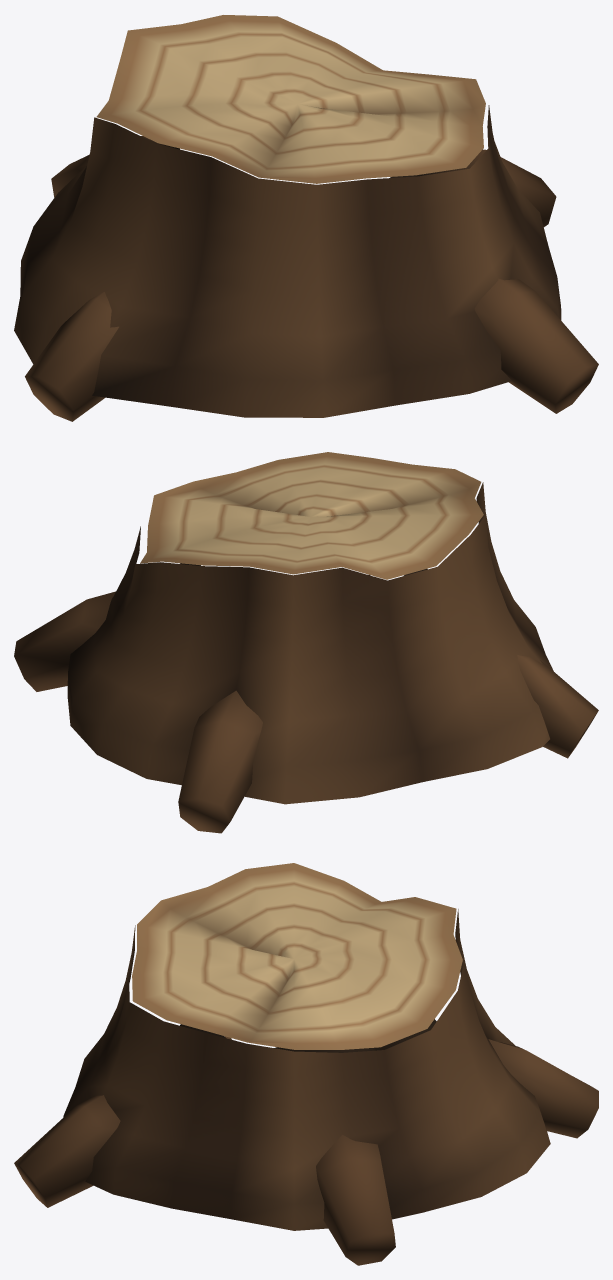
The model's file is tree-stump-v1.glb.
The picture shows the model from 3 angles, top to bottom: view 1: azimuth 30°, elevation 25°; view 2: azimuth 150°, elevation 25°; view 3: azimuth 270°, elevation 25°; orthographic projection. The views are drawn at different scales.
Parts seen in each view (by area): view 1: 0_stump; view 2: 0_stump; view 3: 0_stump.
Part boxes in pixels (x1=…): 0_stump: x1=14, y1=15, x2=598, y2=421; 0_stump: x1=14, y1=452, x2=598, y2=833; 0_stump: x1=14, y1=863, x2=598, y2=1265.
Size of the model in its own units: 1.39 by 0.5725 by 1.41.
